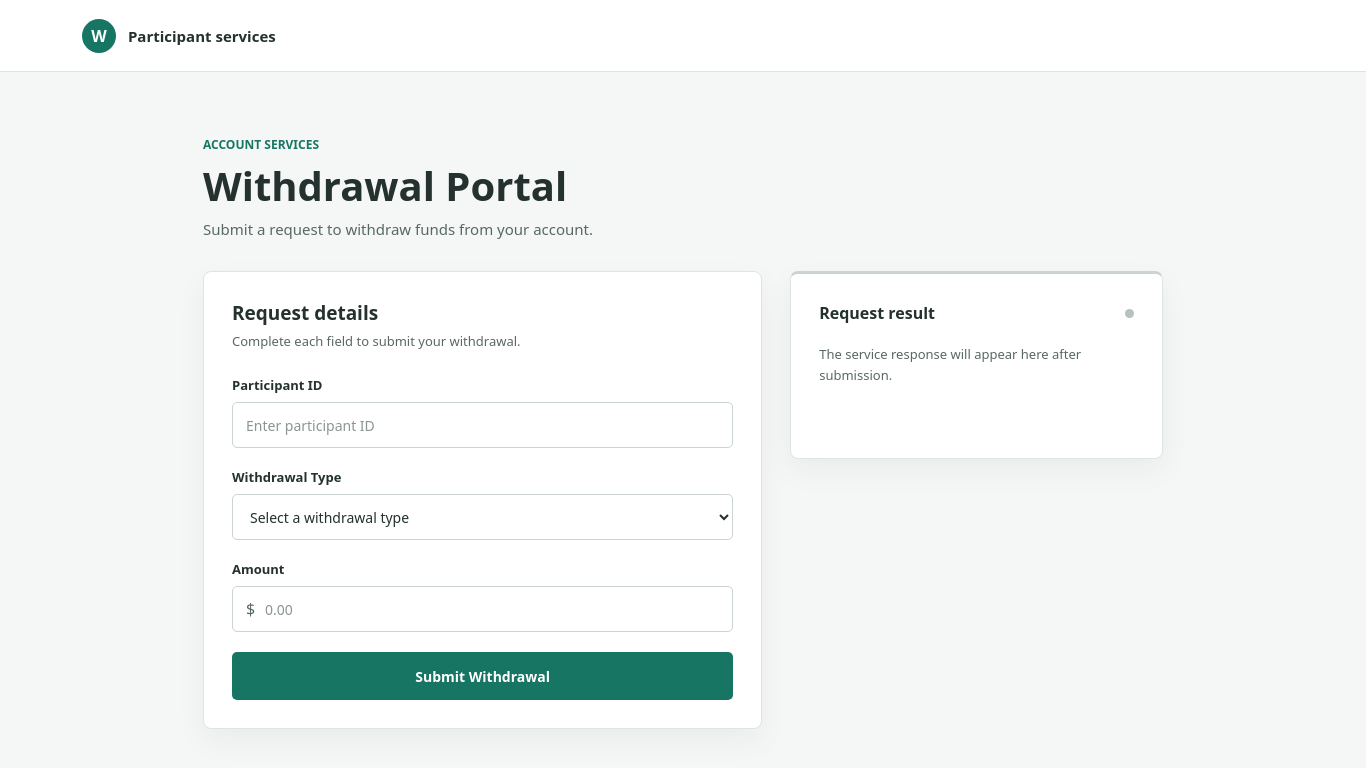
Test: App › submits trimmed, numeric values and shows a success response
Type "  P1001  " into the field labelled "Participant ID". click: (483, 425)
box: [232,402,733,448]
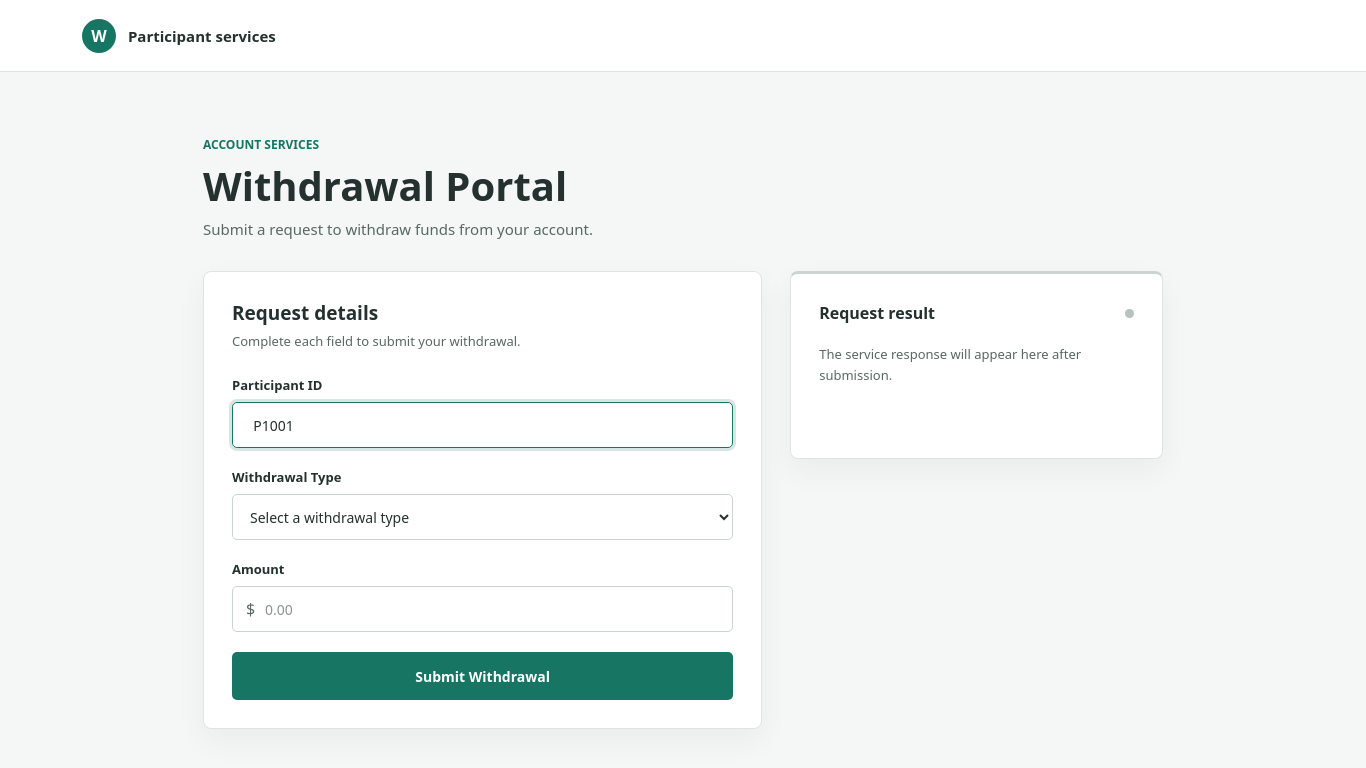
Select "FULL" in the dropdown labelled "Withdrawal Type". click: (483, 517)
box: [232,494,733,540]
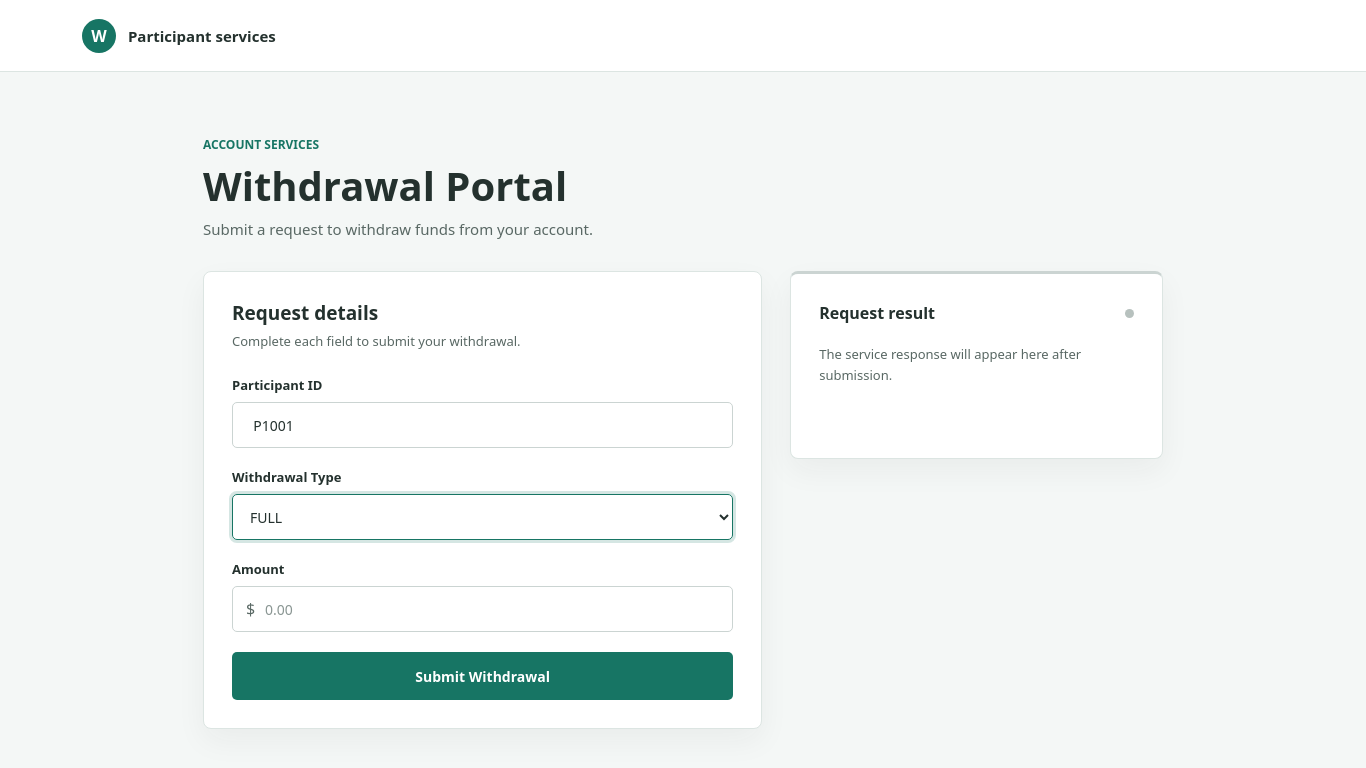
Type "12.5" into the number field labelled "Amount". click: (483, 609)
box: [232,586,733,632]
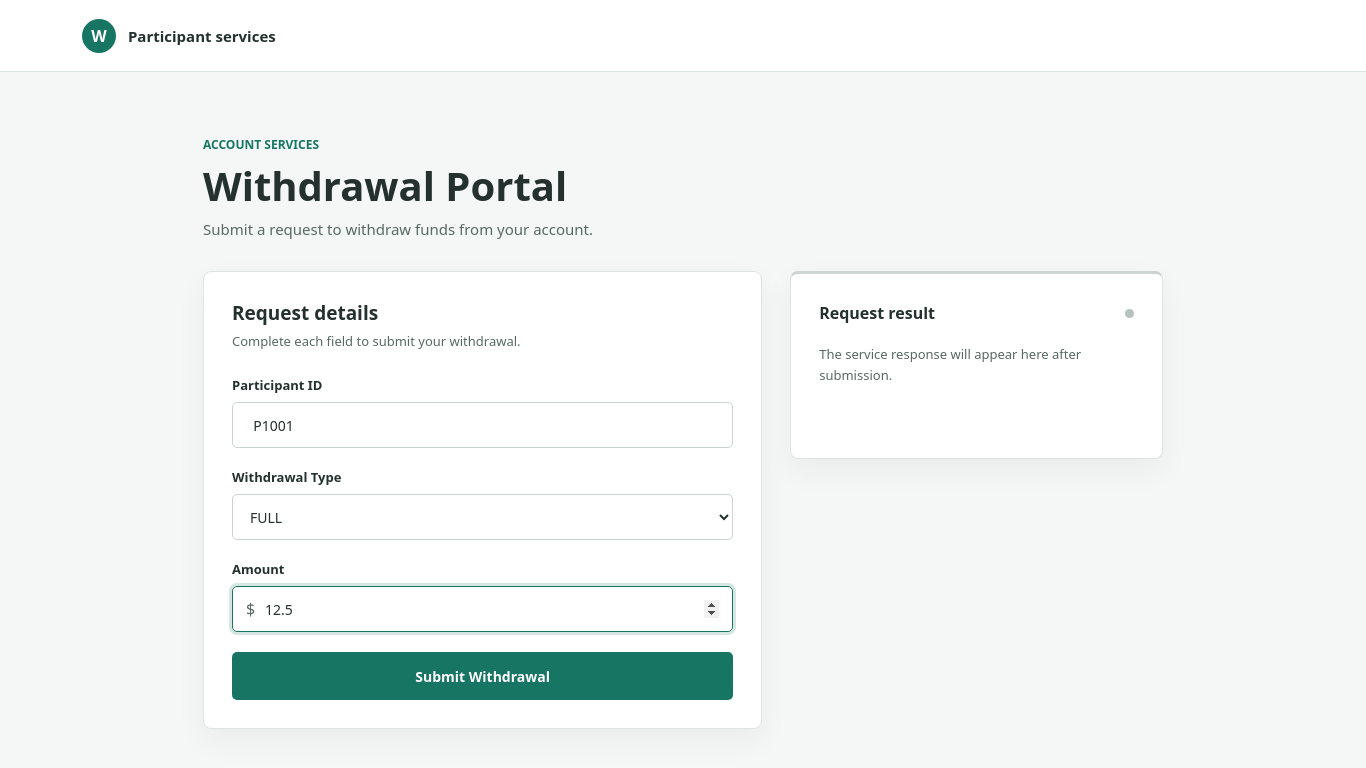
Click the button "Submit Withdrawal". click: (483, 676)
box: [232,652,733,700]
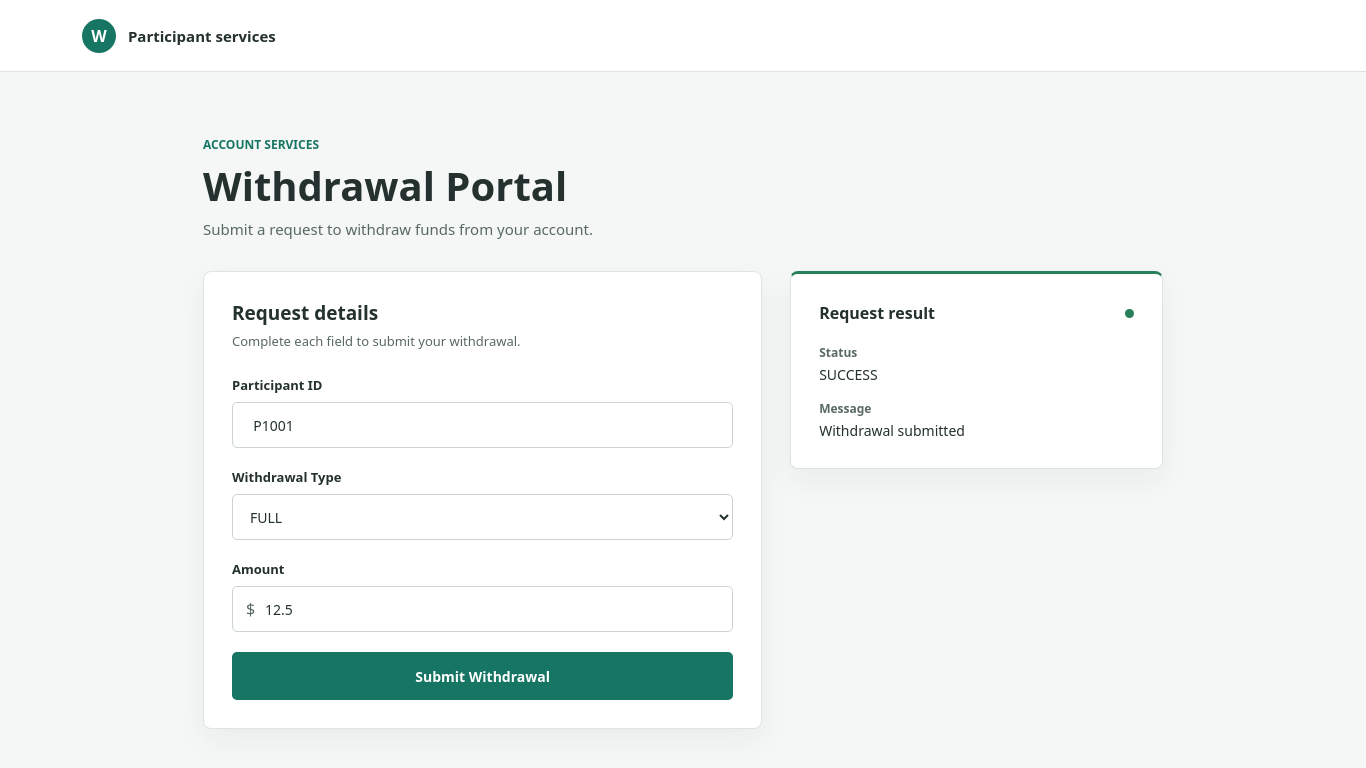
Check: the text "Withdrawal submitted" is shown, box [819,421,965,440]
Check: the text "SUCCESS" is shown, box [819,365,878,384]
